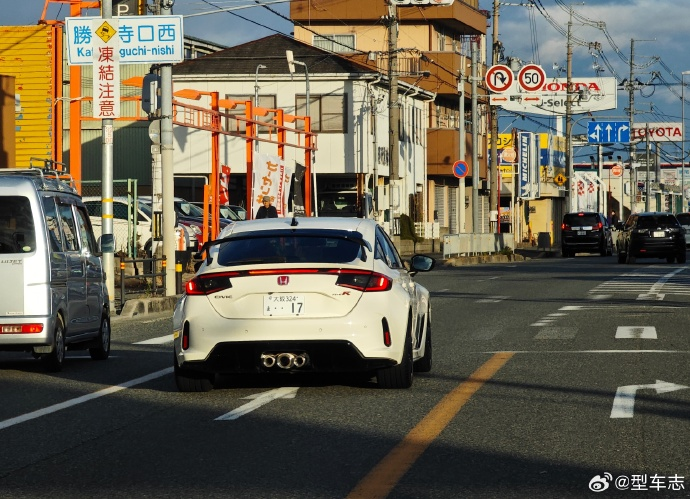other: (168, 216, 432, 377), (0, 164, 122, 362), (623, 208, 688, 271), (561, 209, 618, 257)
